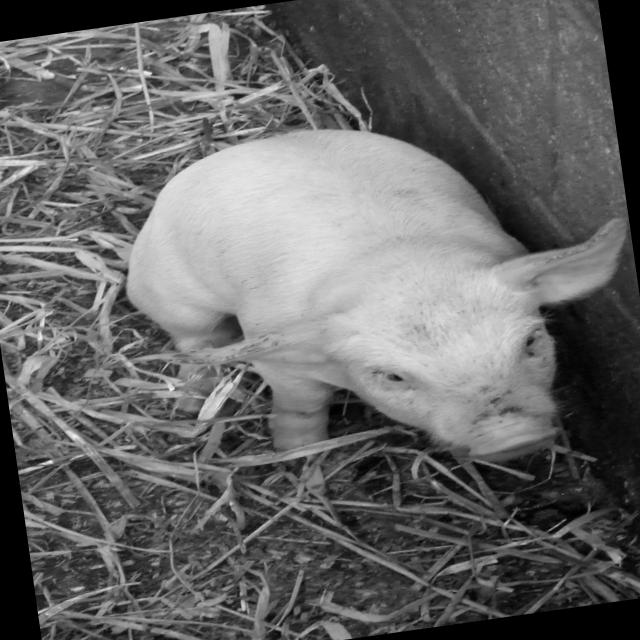pig: (125, 129, 629, 465)
